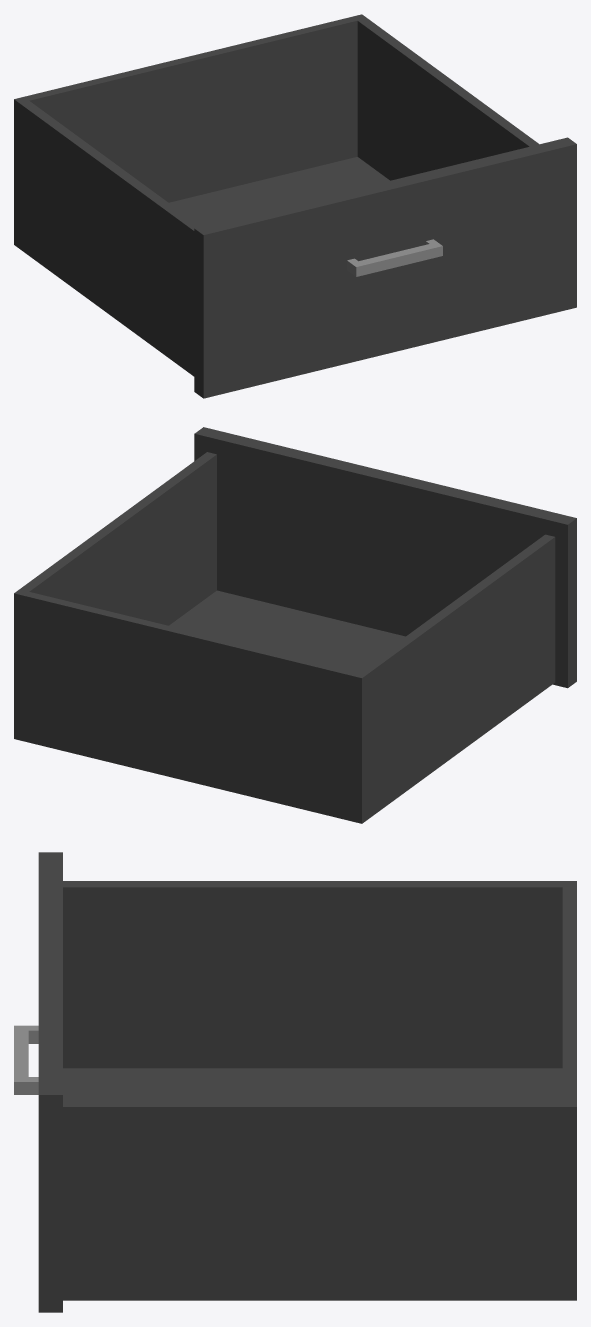
File: Door1_C3_05.fbx
3 views of the same model, one above another, from view 1: azimuth 30°, elevation 25°; view 2: azimuth 150°, elevation 25°; view 3: azimuth 270°, elevation 25° (orthographic). The views are drawn at different scales.
Parts seen in each view (by area): view 1: Door1_C3_05; view 2: Door1_C3_05; view 3: Door1_C3_05.
Boxes of the visible parts, x1,y1,x2,y2 form: Door1_C3_05: (14,14,576,398); Door1_C3_05: (14,427,576,823); Door1_C3_05: (14,852,576,1312).
Bounding box in the file's own units: 59 × 24.68 × 57.89.
